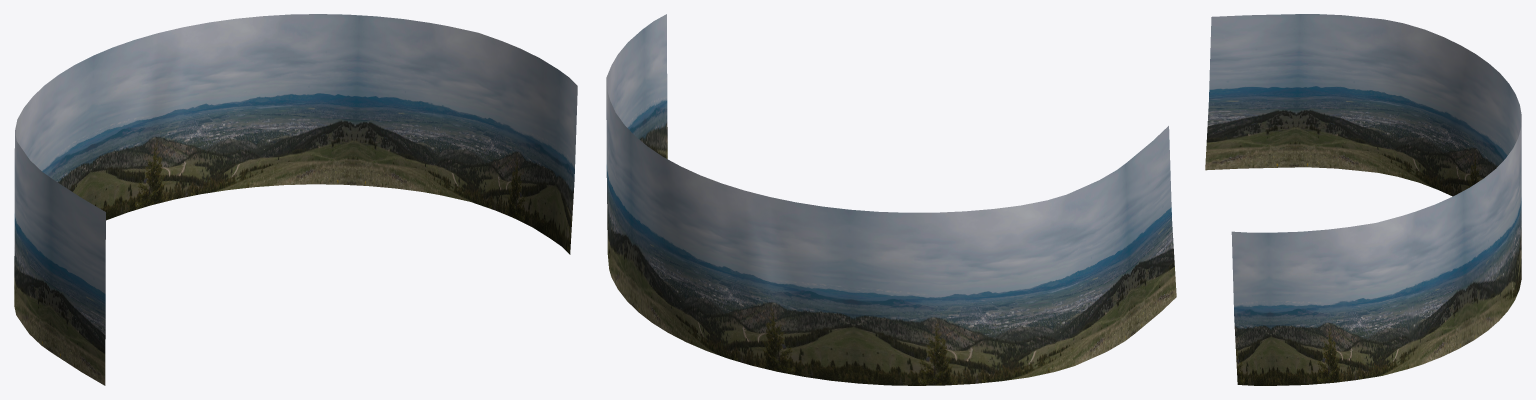
The model's file is Background.glb.
3 renders of one model, left to right at view 1: azimuth 30°, elevation 25°; view 2: azimuth 150°, elevation 25°; view 3: azimuth 270°, elevation 25°, orthographic. The views are drawn at different scales.
Parts seen in each view (by area): view 1: Plane.002; view 2: Plane.002; view 3: Plane.002.
Boxes of the visible parts, box(x1,y1,x2,y2) form: Plane.002: box(14, 14, 577, 385); Plane.002: box(606, 14, 1176, 385); Plane.002: box(1205, 14, 1521, 385).
Size of the model in its own units: 64.42 by 21.14 by 39.08.
1 material, 1 textured.
